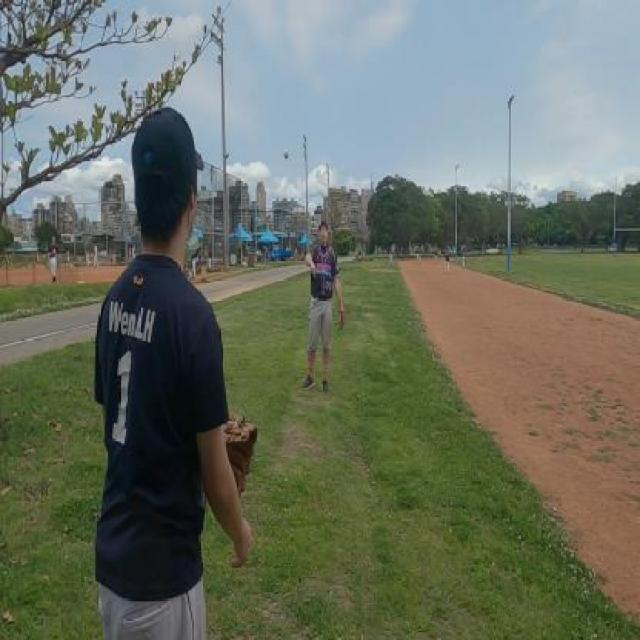baseball: (284, 151, 288, 160)
